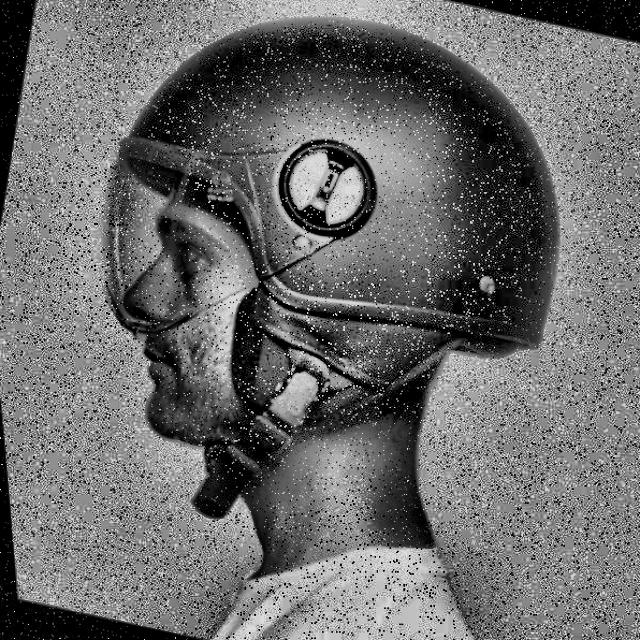Helmet: (1, 0, 636, 600)
